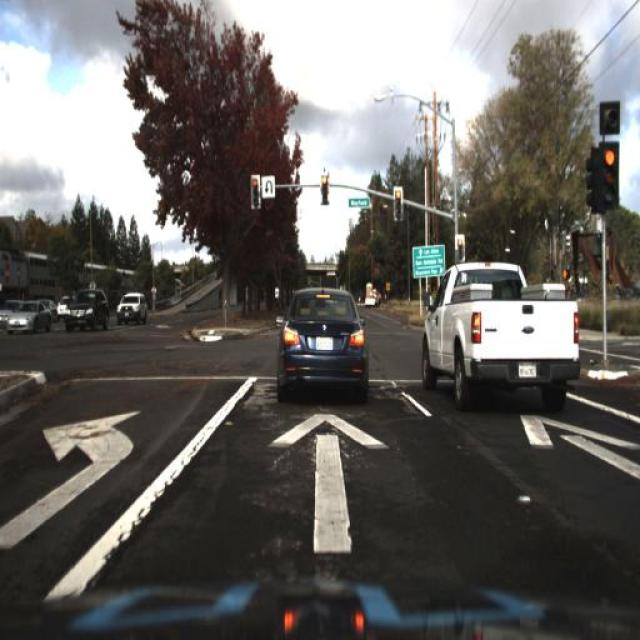car: (418, 263, 582, 397), (276, 282, 373, 397), (64, 286, 110, 332), (7, 299, 51, 336), (118, 286, 146, 326)
trafficLight-RedLeft: (599, 144, 620, 212), (391, 186, 404, 226), (319, 171, 330, 204), (454, 236, 464, 268)
trafficLight-Yellow: (249, 175, 262, 207)
